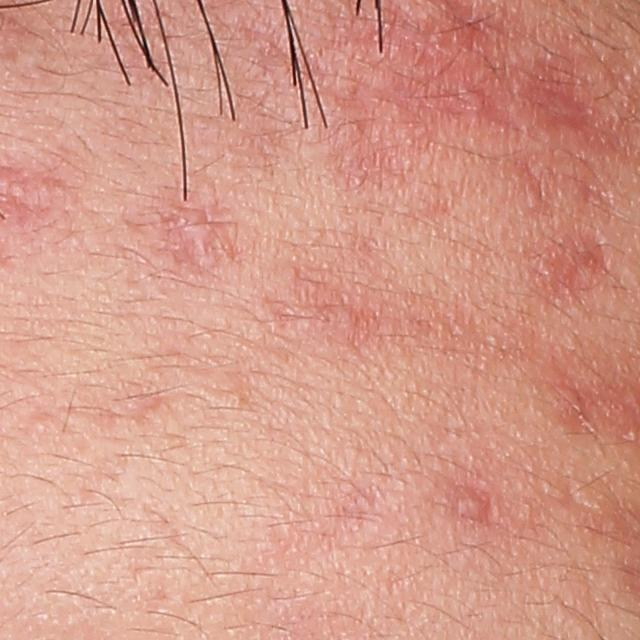atrophic_scar: (514, 49, 629, 138), (535, 225, 626, 309)
comedo: (31, 417, 51, 438)
papule: (464, 491, 500, 526)
